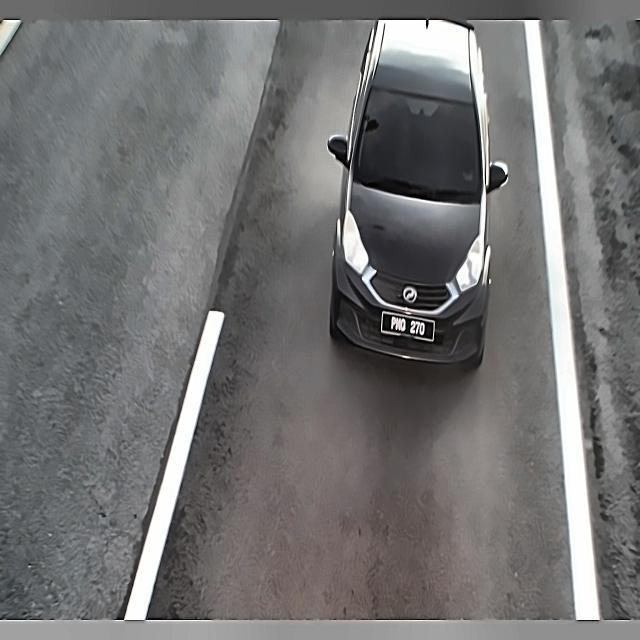car: (379, 307, 439, 345)
